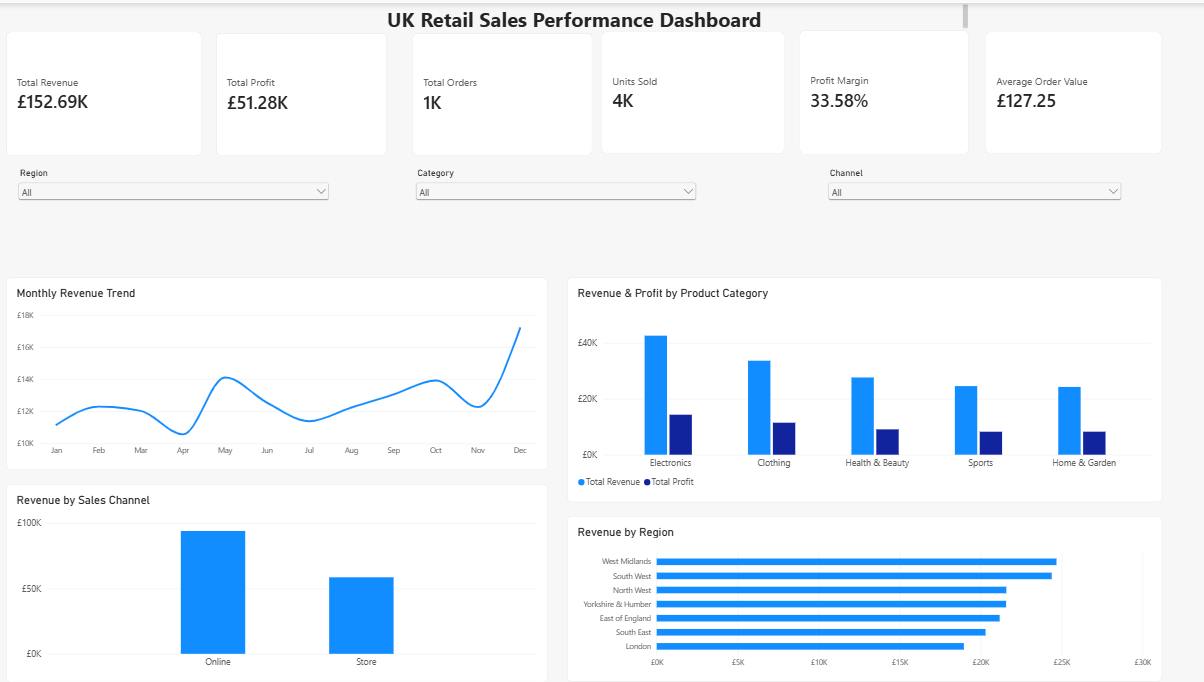

What the dashboard file says about the page in this screenshot:
{"tool":"powerbi","page":{"name":"Page 1","canvas":[1920,1080],"ordinal":0},"visuals":[{"type":"cardVisual","fields":{"Data":["RetailSalesTable.Units Sold"]},"box":[961,45.4,292,195.6],"z":2},{"type":"cardVisual","fields":{"Data":["RetailSalesTable.Profit Margin"]},"box":[1275.6,42.5,269.3,198.4],"z":3},{"type":"cardVisual","fields":{"Data":["RetailSalesTable.Total Orders"]},"box":[660.5,48.2,286.3,195.6],"z":4},{"type":"cardVisual","fields":{"Data":["RetailSalesTable.Average Order Value"]},"box":[1573.2,45.4,280.6,195.6],"z":5},{"type":"cardVisual","fields":{"Data":["RetailSalesTable.Total Revenue"]},"box":[14.2,45.4,311.8,198.4],"z":6},{"type":"cardVisual","fields":{"Data":["RetailSalesTable.Total Profit"]},"box":[348.7,48.2,272.1,195.6],"z":7},{"type":"lineChart","title":"Monthly Revenue Trend","fields":{"Category":["RetailSalesTable.Month"],"Y":["RetailSalesTable.Total Revenue"]},"box":[14.2,436.5,861.7,306.1],"z":8},{"type":"clusteredColumnChart","title":"Revenue & Profit by Product Category","fields":{"Category":["RetailSalesTable.Category"],"Y":["RetailSalesTable.Total Revenue","RetailSalesTable.Total Profit"]},"box":[907.1,436.5,946.8,357.2],"z":9},{"type":"columnChart","title":"Revenue by Sales Channel","fields":{"Category":["RetailSalesTable.Channel"],"Y":["RetailSalesTable.Total Revenue"]},"box":[14.2,765.4,861.7,314.6],"z":10},{"type":"clusteredBarChart","title":"Revenue by Region","fields":{"Category":["RetailSalesTable.Region"],"Y":["RetailSalesTable.Total Revenue"]},"box":[907.1,816.4,946.8,263.6],"z":11},{"type":"slicer","fields":{"Values":["RetailSalesTable.Channel"]},"box":[1318.1,263.6,476.2,141.7],"z":12},{"type":"slicer","fields":{"Values":["RetailSalesTable.Category"]},"box":[660.5,263.6,456.4,141.7],"z":13},{"type":"slicer","fields":{"Values":["RetailSalesTable.Region"]},"box":[28.3,263.6,504.6,141.7],"z":14},{"type":"textbox","box":[620.8,2.8,924.1,39.7],"z":15}]}

Visuals, with their boxes in screenshot pixels (x1, y1, x2, y2), scaled from the page's 1920x1080 canvas onto the 1204x682 screenshot:
cardVisual - RetailSalesTable.Units Sold: {"x1": 603, "y1": 29, "x2": 786, "y2": 152}
cardVisual - RetailSalesTable.Profit Margin: {"x1": 800, "y1": 27, "x2": 969, "y2": 152}
cardVisual - RetailSalesTable.Total Orders: {"x1": 414, "y1": 30, "x2": 594, "y2": 154}
cardVisual - RetailSalesTable.Average Order Value: {"x1": 987, "y1": 29, "x2": 1162, "y2": 152}
cardVisual - RetailSalesTable.Total Revenue: {"x1": 9, "y1": 29, "x2": 204, "y2": 154}
cardVisual - RetailSalesTable.Total Profit: {"x1": 219, "y1": 30, "x2": 389, "y2": 154}
"Monthly Revenue Trend" lineChart: {"x1": 9, "y1": 276, "x2": 549, "y2": 469}
"Revenue & Profit by Product Category" clusteredColumnChart: {"x1": 569, "y1": 276, "x2": 1163, "y2": 501}
"Revenue by Sales Channel" columnChart: {"x1": 9, "y1": 483, "x2": 549, "y2": 681}
"Revenue by Region" clusteredBarChart: {"x1": 569, "y1": 516, "x2": 1163, "y2": 681}
slicer - RetailSalesTable.Channel: {"x1": 827, "y1": 166, "x2": 1125, "y2": 256}
slicer - RetailSalesTable.Category: {"x1": 414, "y1": 166, "x2": 700, "y2": 256}
slicer - RetailSalesTable.Region: {"x1": 18, "y1": 166, "x2": 334, "y2": 256}
textbox: {"x1": 389, "y1": 2, "x2": 969, "y2": 27}
